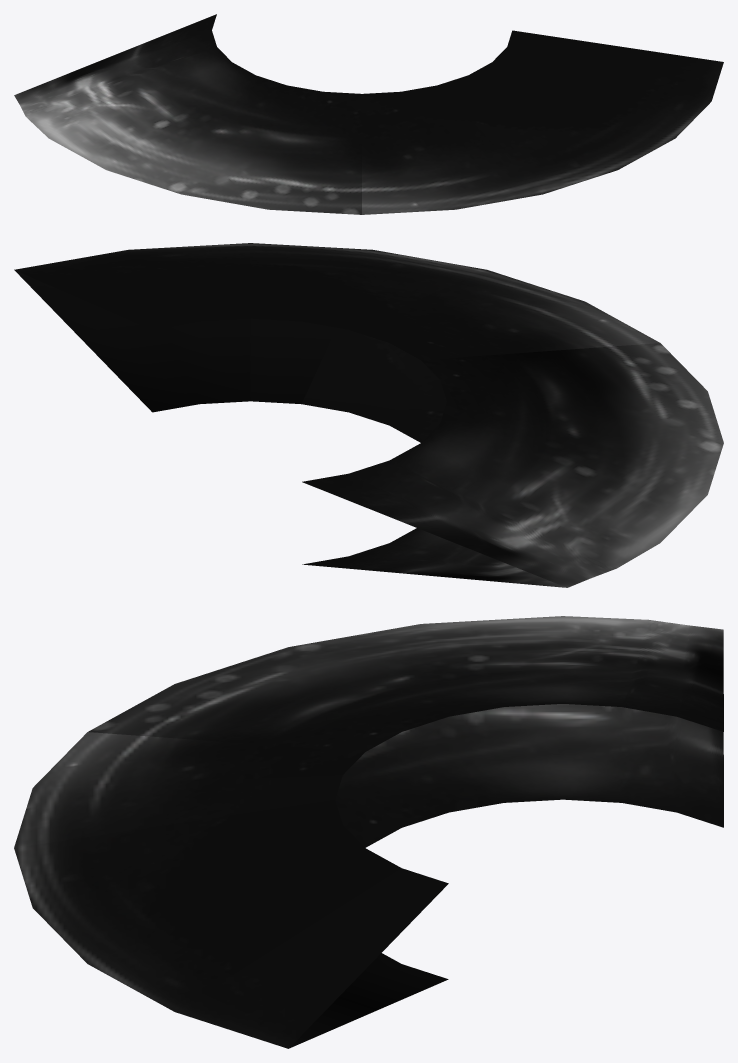
File: ef_npc_2030_13.fbx
The picture shows the model from 3 angles, top to bottom: view 1: azimuth 30°, elevation 25°; view 2: azimuth 150°, elevation 25°; view 3: azimuth 270°, elevation 25°; orthographic projection. The views are drawn at different scales.
Parts seen in each view (by area): view 1: Cylinder001-2; view 2: Cylinder001-2; view 3: Cylinder001-2.
Boxes of the visible parts, x1=… form: Cylinder001-2: x1=14, y1=14, x2=723, y2=214; Cylinder001-2: x1=14, y1=243, x2=723, y2=587; Cylinder001-2: x1=14, y1=616, x2=723, y2=1048.
Size of the model in its own units: 139 by 14.32 by 96.12.
